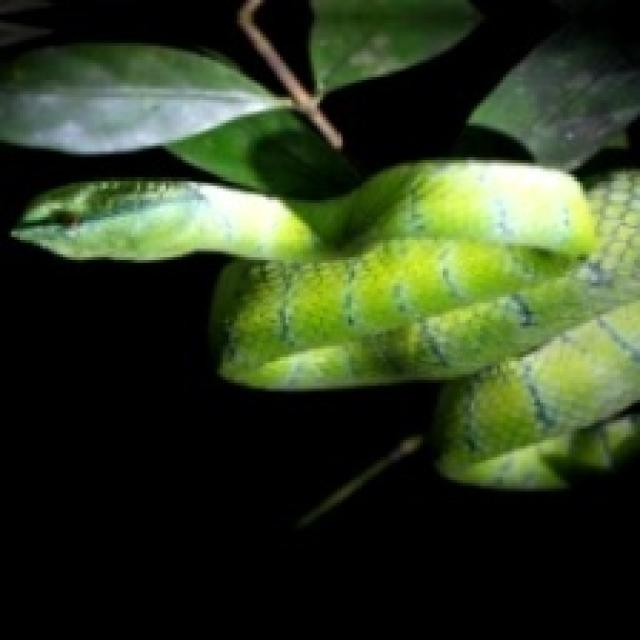north ph temple pitviper: (14, 160, 637, 486)
